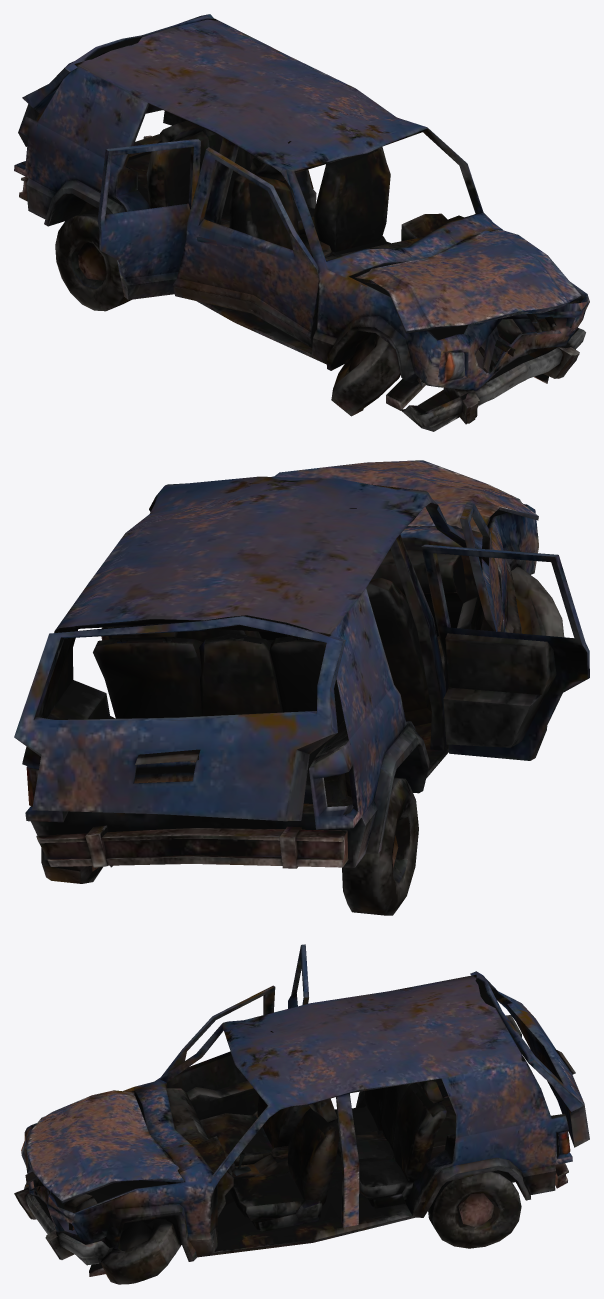
Rendered from wreck_suv.gltf.
3 renders of one model, top to bottom at view 1: azimuth 30°, elevation 25°; view 2: azimuth 150°, elevation 25°; view 3: azimuth 270°, elevation 25°, orthographic. The views are drawn at different scales.
Visible parts, largest first — view 1: wreck_suv; view 2: wreck_suv; view 3: wreck_suv.
Part boxes in pixels (left/top/right/bottom): wreck_suv: left=14, top=14, right=589, bottom=431; wreck_suv: left=14, top=460, right=589, bottom=915; wreck_suv: left=14, top=944, right=589, bottom=1284.
Bounding box in the file's own units: 3.09 × 1.77 × 4.61.
Materials: 1 (1 with a texture image).
